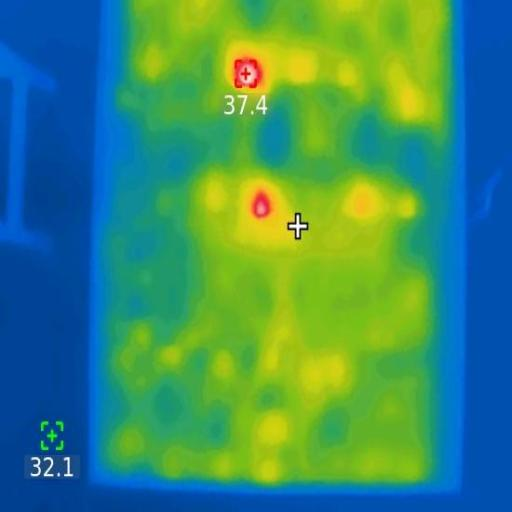hotspot: (232, 58, 264, 92), (251, 190, 272, 222)
